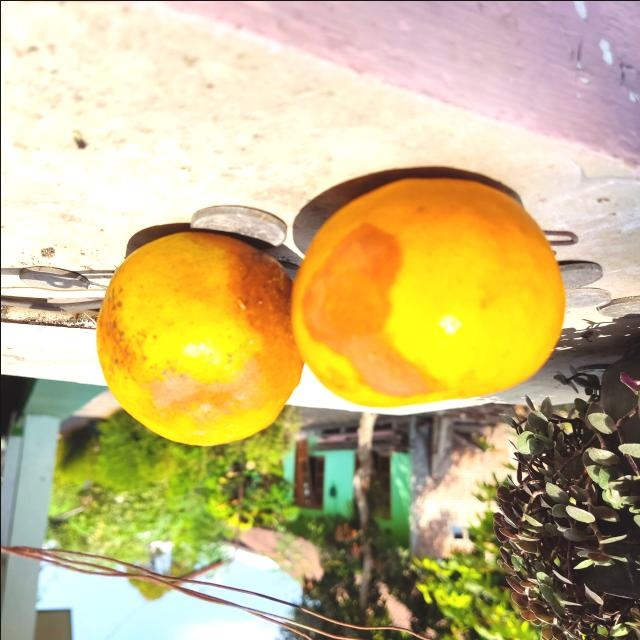agrume: (294, 173, 570, 410), (94, 227, 309, 447)
